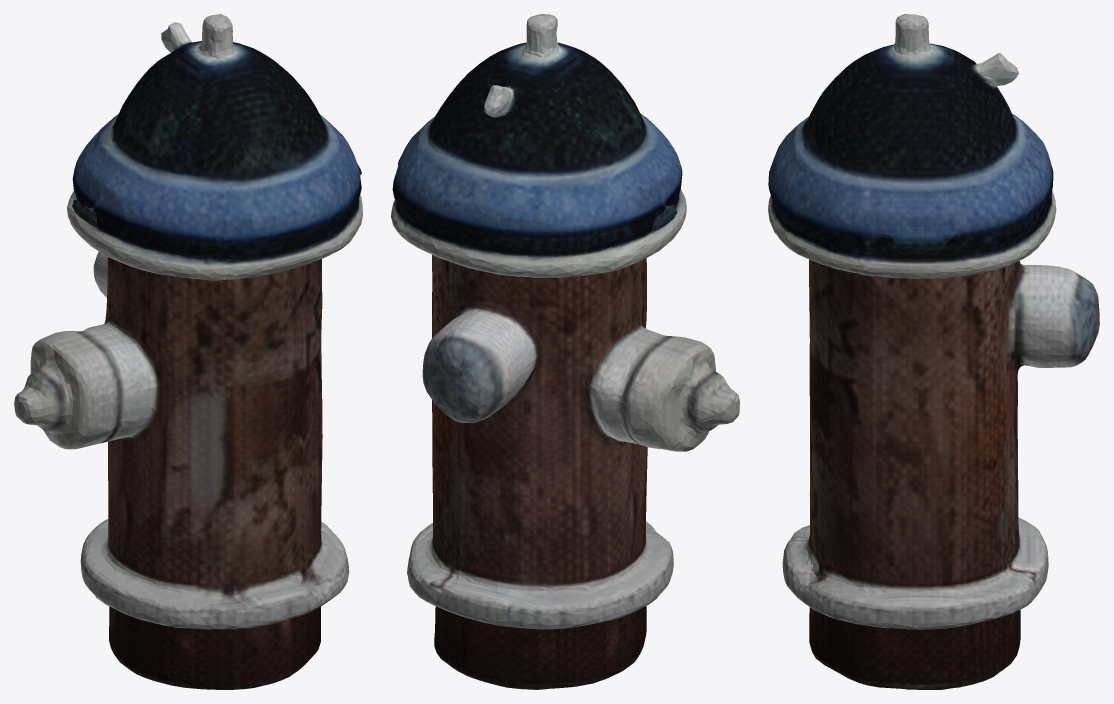
3 renders of one model, left to right at view 1: azimuth 30°, elevation 25°; view 2: azimuth 150°, elevation 25°; view 3: azimuth 270°, elevation 25°, orthographic.
Visible parts, largest first — view 1: Mesh_0.017; view 2: Mesh_0.017; view 3: Mesh_0.017.
Part boxes in pixels (x1=…): Mesh_0.017: x1=14, y1=14, x2=362, y2=689; Mesh_0.017: x1=391, y1=14, x2=739, y2=689; Mesh_0.017: x1=768, y1=14, x2=1099, y2=689.
Bounding box in the file's own units: 4.71 × 8.7 × 4.11.
1 material, 1 textured.
